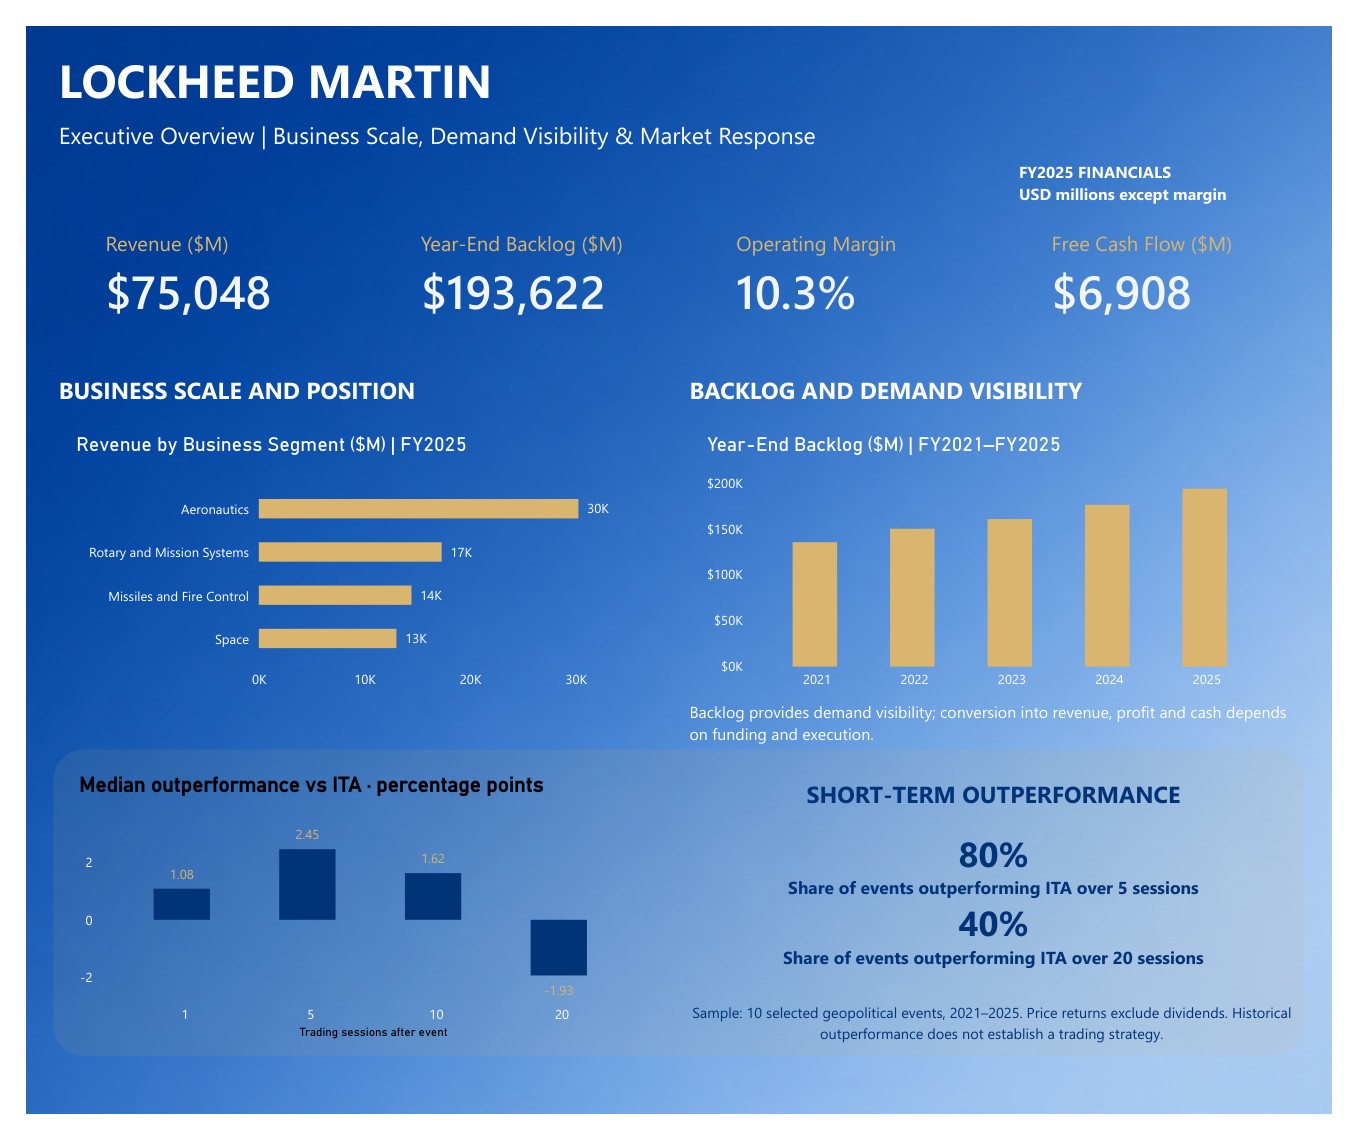

Layout of this report page (visuals, bound fields, positions):
{"tool":"powerbi","page":{"name":"Executive Overview","canvas":[1200,1000],"ordinal":0},"visuals":[{"type":"shape","box":[24.6,665,1150.2,282],"z":0},{"type":"cardVisual","fields":{"Data":["Sum(Fact Financial.BacklogM)"],"Rows":["Fact Financial.Year"]},"box":[320,180,280,100],"z":1000},{"type":"cardVisual","fields":{"Data":["Fact Financial.Operating Margin"],"Rows":["Fact Financial.Year"]},"box":[610,180,280,100],"z":2000},{"type":"cardVisual","fields":{"Data":["Fact Financial.Free Cash Flow (M)"],"Rows":["Fact Financial.Year"]},"box":[900,180,280,100],"z":3000},{"type":"clusteredColumnChart","title":"Median outperformance vs ITA · percentage points","fields":{"Category":["Event Window.TradingDays"],"Y":["Fact Event Window.Median Outperformance vs ITA (pp)"]},"box":[33.3,672.4,550.5,275],"z":4000},{"type":"textbox","box":[10,870,280,210],"z":5000},{"type":"textbox","box":[29.6,19.7,1139.2,65.3],"z":6000},{"type":"textbox","box":[30,85,1140,40],"z":7000},{"type":"cardVisual","fields":{"Data":["Fact Financial.Revenue (M)"],"Rows":["Fact Financial.Year"]},"box":[30,180,280,100],"z":8000},{"type":"textbox","box":[30,320,350,30],"z":9000},{"type":"clusteredBarChart","title":"Revenue by Business Segment ($M) | FY2025","fields":{"Category":["Dim Segment.Segment"],"Y":["Sum(Fact Segment.RevenueM)"]},"box":[30,360,550,270],"z":10000},{"type":"textbox","box":[610,320,500,30],"z":11000},{"type":"lineStackedColumnComboChart","title":"Year-End Backlog ($M) | FY2021–FY2025","fields":{"Category":["Fact Financial.Year"],"Y":["Sum(Fact Financial.BacklogM)"]},"box":[610,360,550,270],"z":12000},{"type":"textbox","box":[610,620,560,45],"z":13000},{"type":"textbox","box":[609.6,672.4,559.1,235.2],"z":14000},{"type":"textbox","box":[608.4,896.6,560,40],"z":15000},{"type":"textbox","box":[912.6,124.4,220.4,50.5],"z":17000}]}

Visuals, with their boxes in screenshot pixels (x1, y1, x2, y2), scaled from the page's 1200x1000 canvas onto the 1358x1140 screenshot:
shape: region(28, 758, 1329, 1080)
cardVisual - Sum(Fact Financial.BacklogM) x Fact Financial.Year: region(362, 205, 679, 319)
cardVisual - Fact Financial.Operating Margin x Fact Financial.Year: region(690, 205, 1007, 319)
cardVisual - Fact Financial.Free Cash Flow (M) x Fact Financial.Year: region(1018, 205, 1335, 319)
"Median outperformance vs ITA · percentage points" clusteredColumnChart: region(38, 767, 661, 1080)
textbox: region(11, 992, 328, 1139)
textbox: region(33, 22, 1323, 97)
textbox: region(34, 97, 1324, 142)
cardVisual - Fact Financial.Revenue (M) x Fact Financial.Year: region(34, 205, 351, 319)
textbox: region(34, 365, 430, 399)
"Revenue by Business Segment ($M) | FY2025" clusteredBarChart: region(34, 410, 656, 718)
textbox: region(690, 365, 1256, 399)
"Year-End Backlog ($M) | FY2021–FY2025" lineStackedColumnComboChart: region(690, 410, 1313, 718)
textbox: region(690, 707, 1324, 758)
textbox: region(690, 767, 1323, 1035)
textbox: region(689, 1022, 1322, 1068)
textbox: region(1033, 142, 1282, 199)
